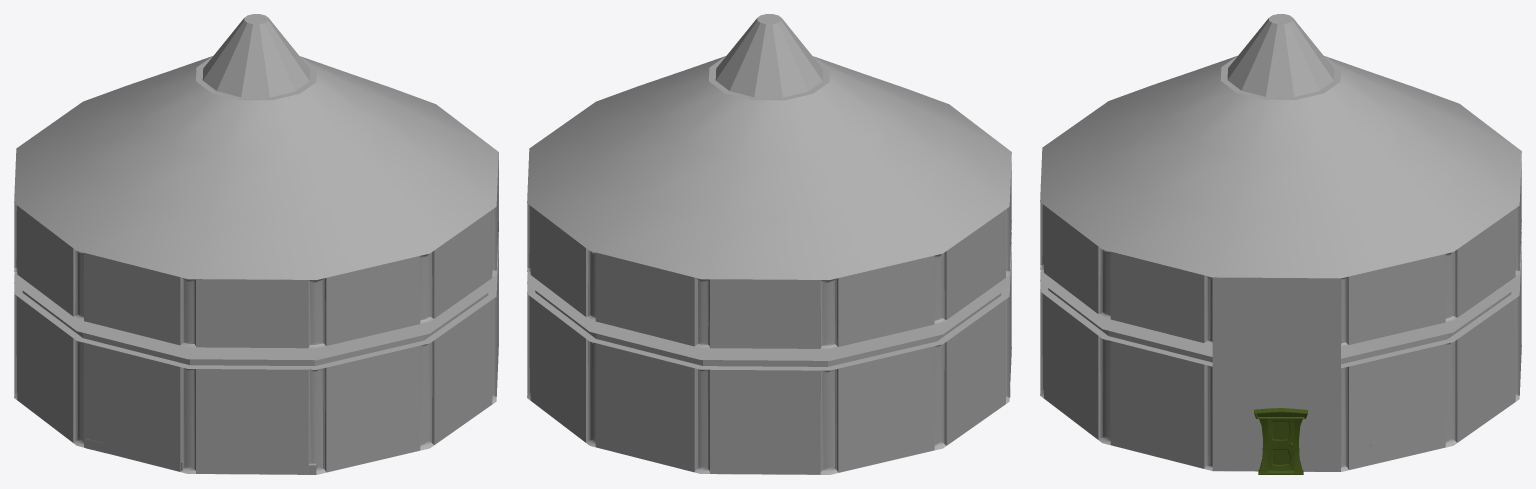
Rendered from greenhouse final for unity.fbx.
3 views of the same model, side by side, from view 1: azimuth 30°, elevation 25°; view 2: azimuth 150°, elevation 25°; view 3: azimuth 270°, elevation 25° (orthographic).
Parts seen in each view (by area): view 1: GreenhouseStructure; view 2: GreenhouseStructure; view 3: GreenhouseStructure, Door2, polySurface4.
Boxes of the visible parts, box(x1,y1,x2,y2) form: GreenhouseStructure: box(14, 14, 498, 474); GreenhouseStructure: box(527, 14, 1011, 474); GreenhouseStructure: box(1040, 14, 1521, 471); Door2: box(1267, 419, 1294, 470); polySurface4: box(1254, 408, 1307, 474).
Bounding box in the file's own units: 54.34 × 43.39 × 53.49.
